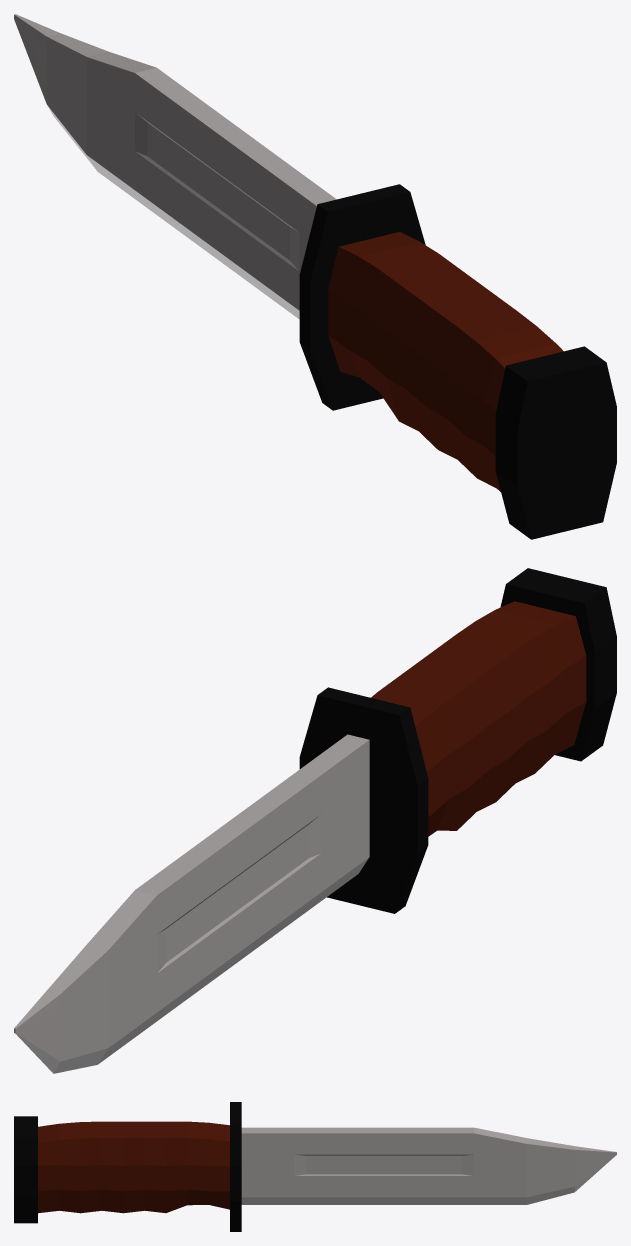
File: knife.glb
The picture shows the model from 3 angles, top to bottom: view 1: azimuth 30°, elevation 25°; view 2: azimuth 150°, elevation 25°; view 3: azimuth 270°, elevation 25°; orthographic projection. The views are drawn at different scales.
Visible parts, largest first — view 1: Cube; view 2: Cube; view 3: Cube.
Part boxes in pixels (box(x1,y1,x2,y2)): Cube: box(14, 14, 616, 539); Cube: box(14, 568, 616, 1073); Cube: box(14, 1102, 616, 1231).
Bounding box in the file's own units: 178 × 288 × 1442.
